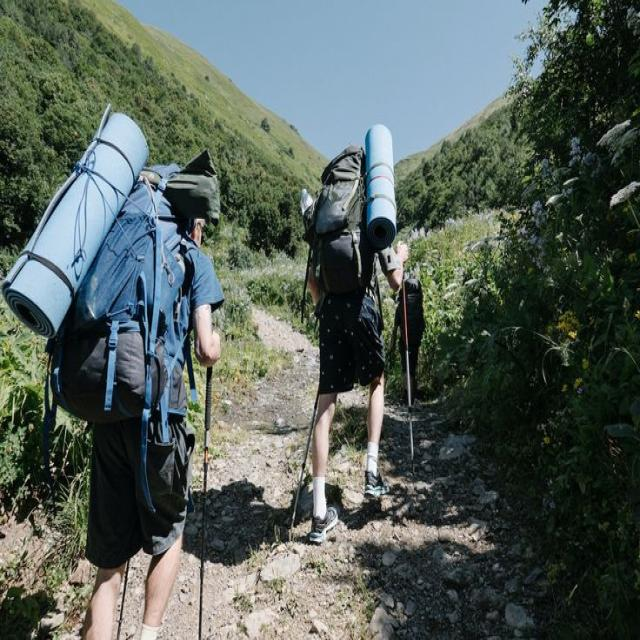backpack: (48, 166, 197, 426), (305, 144, 375, 297)
